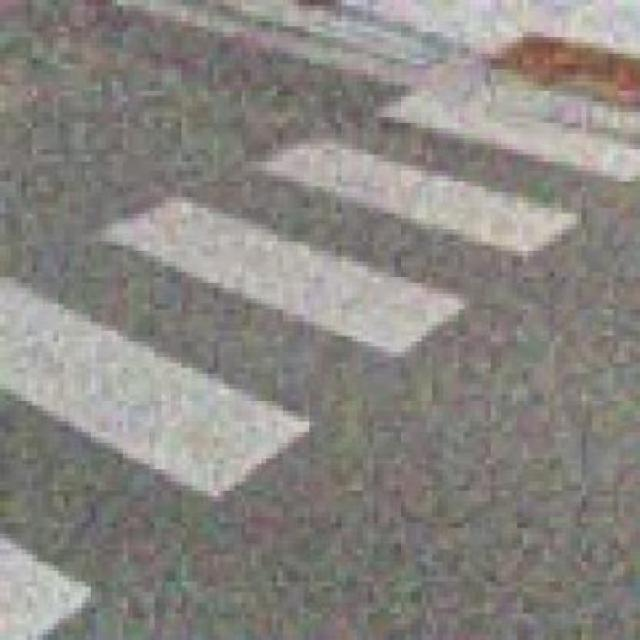crosswalk: (0, 84, 640, 640)
